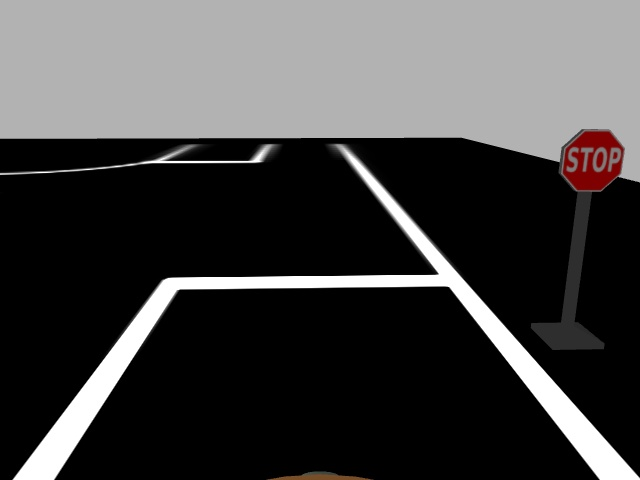stop: (552, 126, 626, 195)
